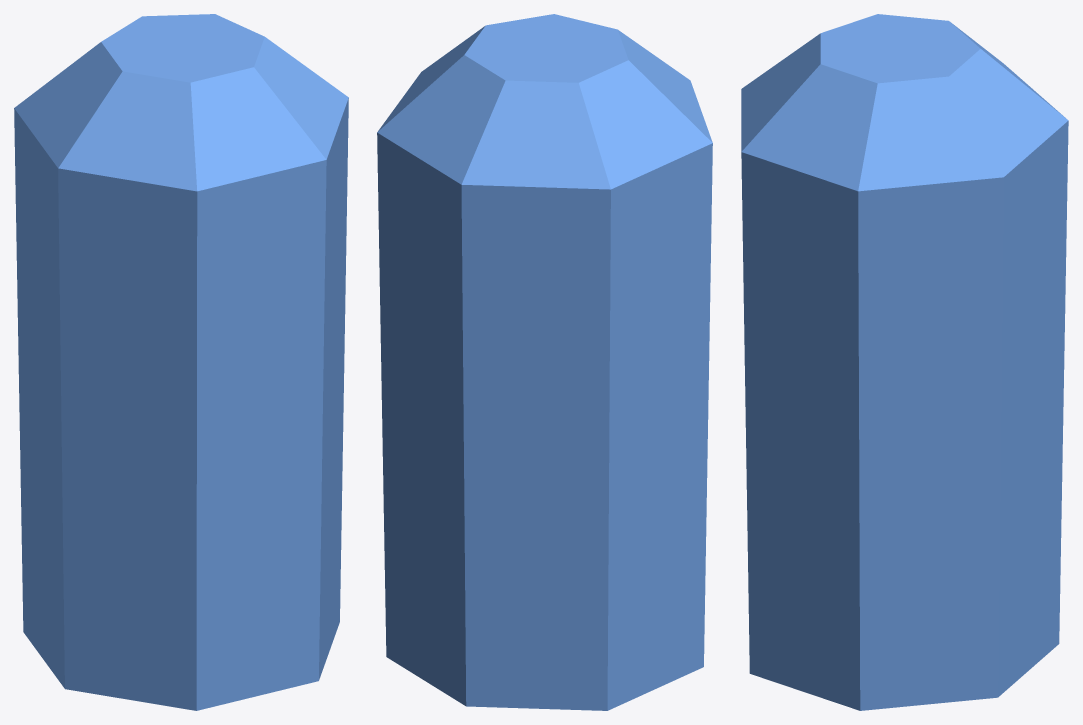
The model's file is Crystal_Blue_A.fbx.
The picture shows the model from 3 angles, left to right: view 1: azimuth 30°, elevation 25°; view 2: azimuth 150°, elevation 25°; view 3: azimuth 270°, elevation 25°; orthographic projection.
Visible parts, largest first — view 1: Crystal_Blue_A; view 2: Crystal_Blue_A; view 3: Crystal_Blue_A.
Part boxes in pixels (left/top/right/bottom): Crystal_Blue_A: left=14, top=14, right=348, bottom=710; Crystal_Blue_A: left=377, top=14, right=712, bottom=710; Crystal_Blue_A: left=741, top=14, right=1068, bottom=710.
Bounding box in the file's own units: 74.54 × 146 × 72.67.
